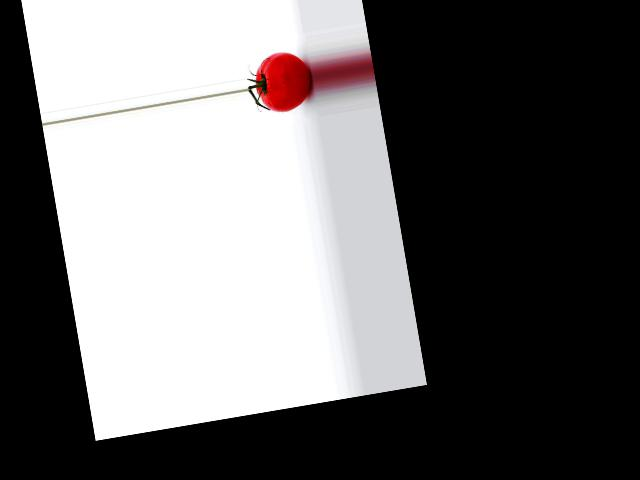tomato: (251, 47, 315, 114)
